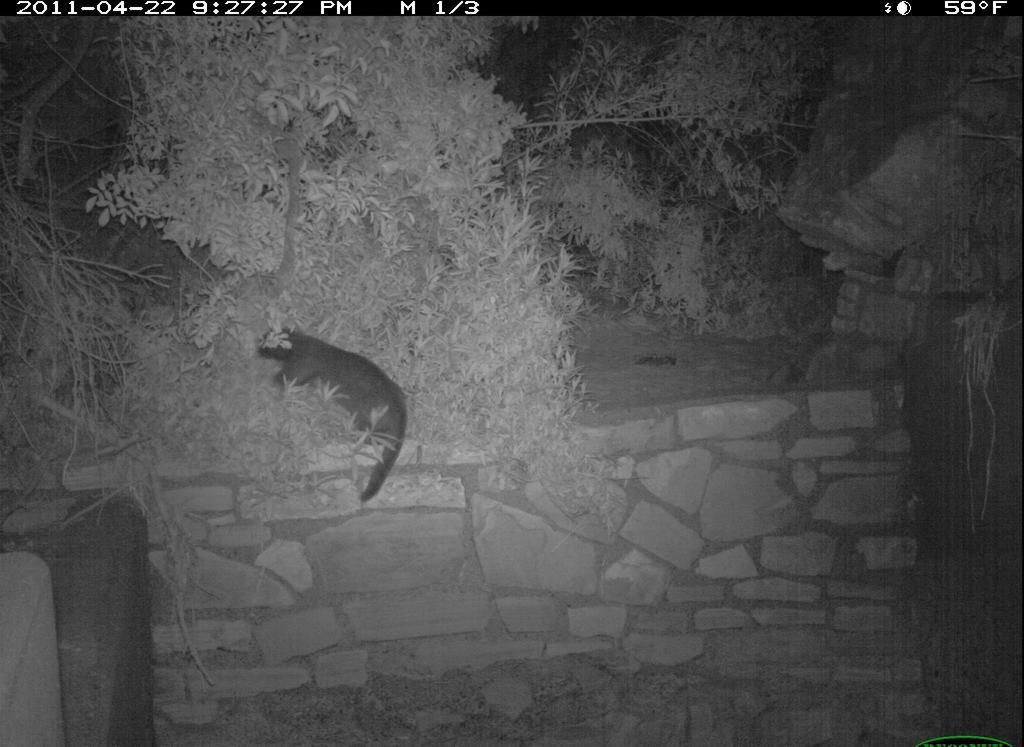cat: (249, 319, 417, 509)
